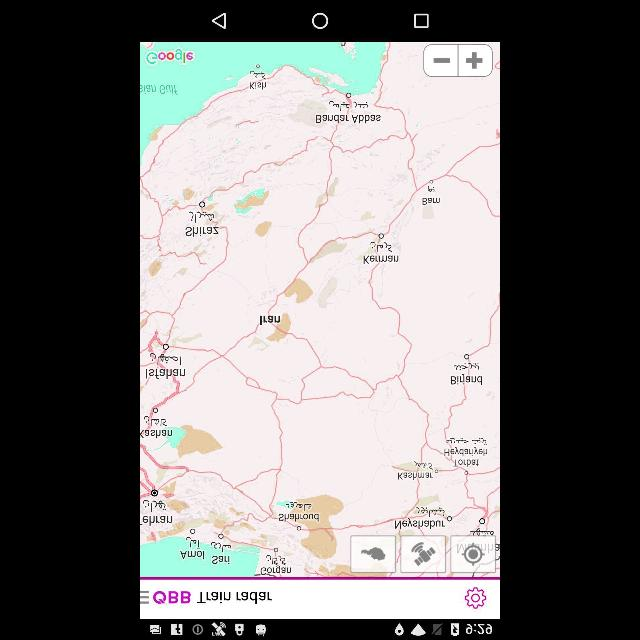icon: (411, 541, 437, 567), (462, 542, 486, 566), (465, 587, 487, 609), (361, 546, 385, 562), (212, 12, 228, 28), (312, 12, 328, 28), (415, 13, 429, 29), (140, 589, 150, 607)
map: (140, 41, 500, 578)
panel: (140, 2, 500, 42)
text: (152, 590, 274, 606)
toolbar: (140, 580, 500, 618)
uppertaskbar: (140, 617, 498, 639)
